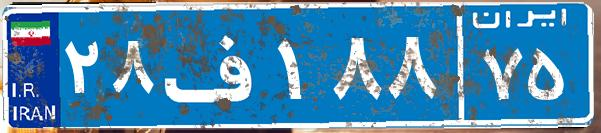1: (273, 28, 330, 110)
2: (57, 26, 110, 107)
5: (525, 38, 570, 115)
7: (475, 38, 525, 113)
8: (385, 28, 445, 110), (330, 28, 385, 110), (110, 28, 158, 105)
ف: (158, 15, 273, 115)
